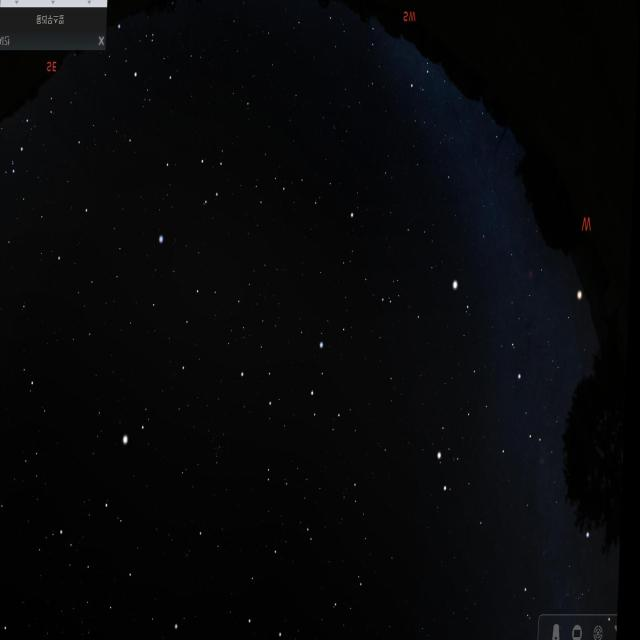bootes: (78, 433, 152, 622)
canis_minor: (447, 272, 485, 330)
gemini: (432, 360, 544, 512)
leo: (242, 314, 358, 428)
